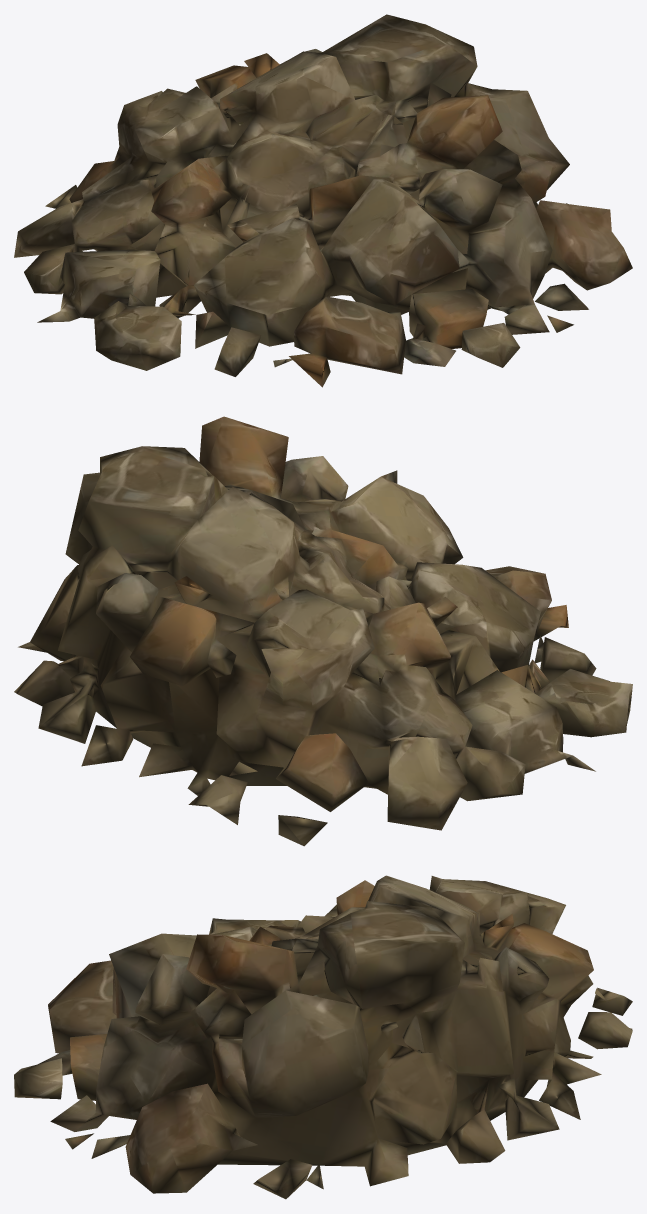
The model's file is rubble_half-l71bB-4Y.glb.
The picture shows the model from 3 angles, top to bottom: view 1: azimuth 30°, elevation 25°; view 2: azimuth 150°, elevation 25°; view 3: azimuth 270°, elevation 25°; orthographic projection. The views are drawn at different scales.
Parts seen in each view (by area): view 1: rubble_half; view 2: rubble_half; view 3: rubble_half.
Boxes of the visible parts, bbox=[...] form: rubble_half: bbox=[14, 14, 632, 387]; rubble_half: bbox=[14, 416, 632, 846]; rubble_half: bbox=[14, 875, 632, 1199].
Bounding box in the file's own units: 3.87 × 1.4 × 3.74.
1 material, 1 textured.
